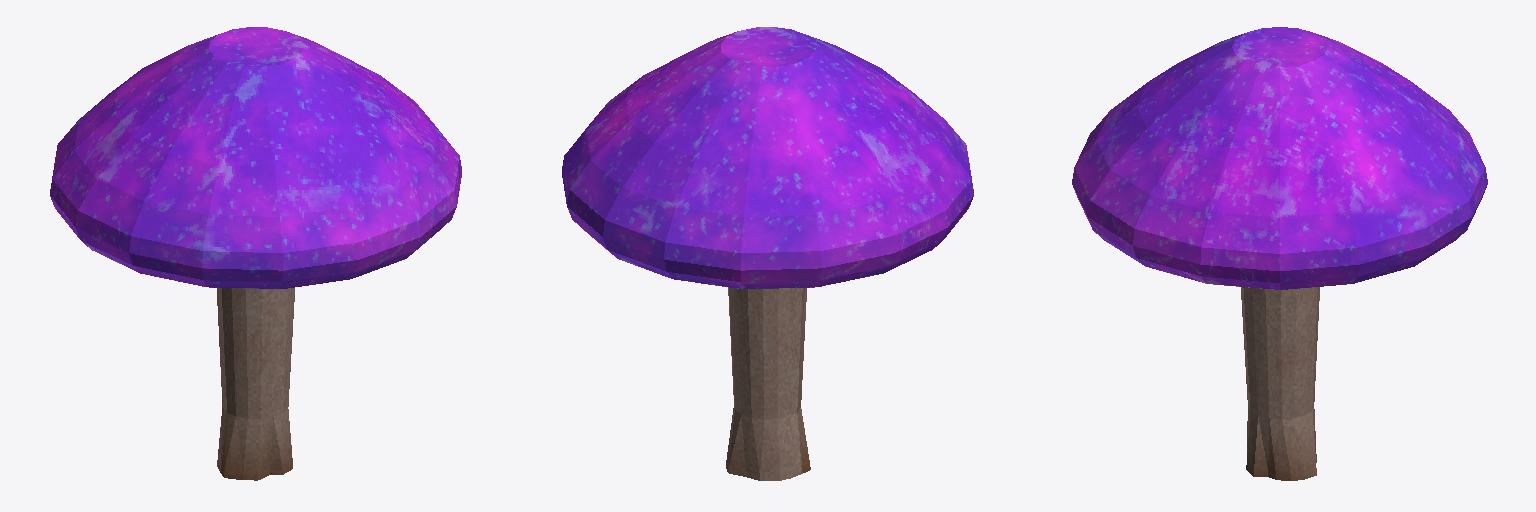
3 views of the same model, side by side, from view 1: azimuth 30°, elevation 25°; view 2: azimuth 150°, elevation 25°; view 3: azimuth 270°, elevation 25° (orthographic).
Visible parts, largest first — view 1: H1_Circle; view 2: H1_Circle; view 3: H1_Circle.
Boxes of the visible parts, x1=… form: H1_Circle: x1=50, y1=27, x2=461, y2=480; H1_Circle: x1=562, y1=27, x2=973, y2=480; H1_Circle: x1=1072, y1=27, x2=1487, y2=480.
Bounding box in the file's own units: 2.53 × 2.8 × 2.53.
1 materials, 1 textured.